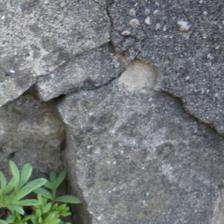Crack: (12, 53, 123, 106), (27, 19, 109, 71), (4, 44, 89, 93)
